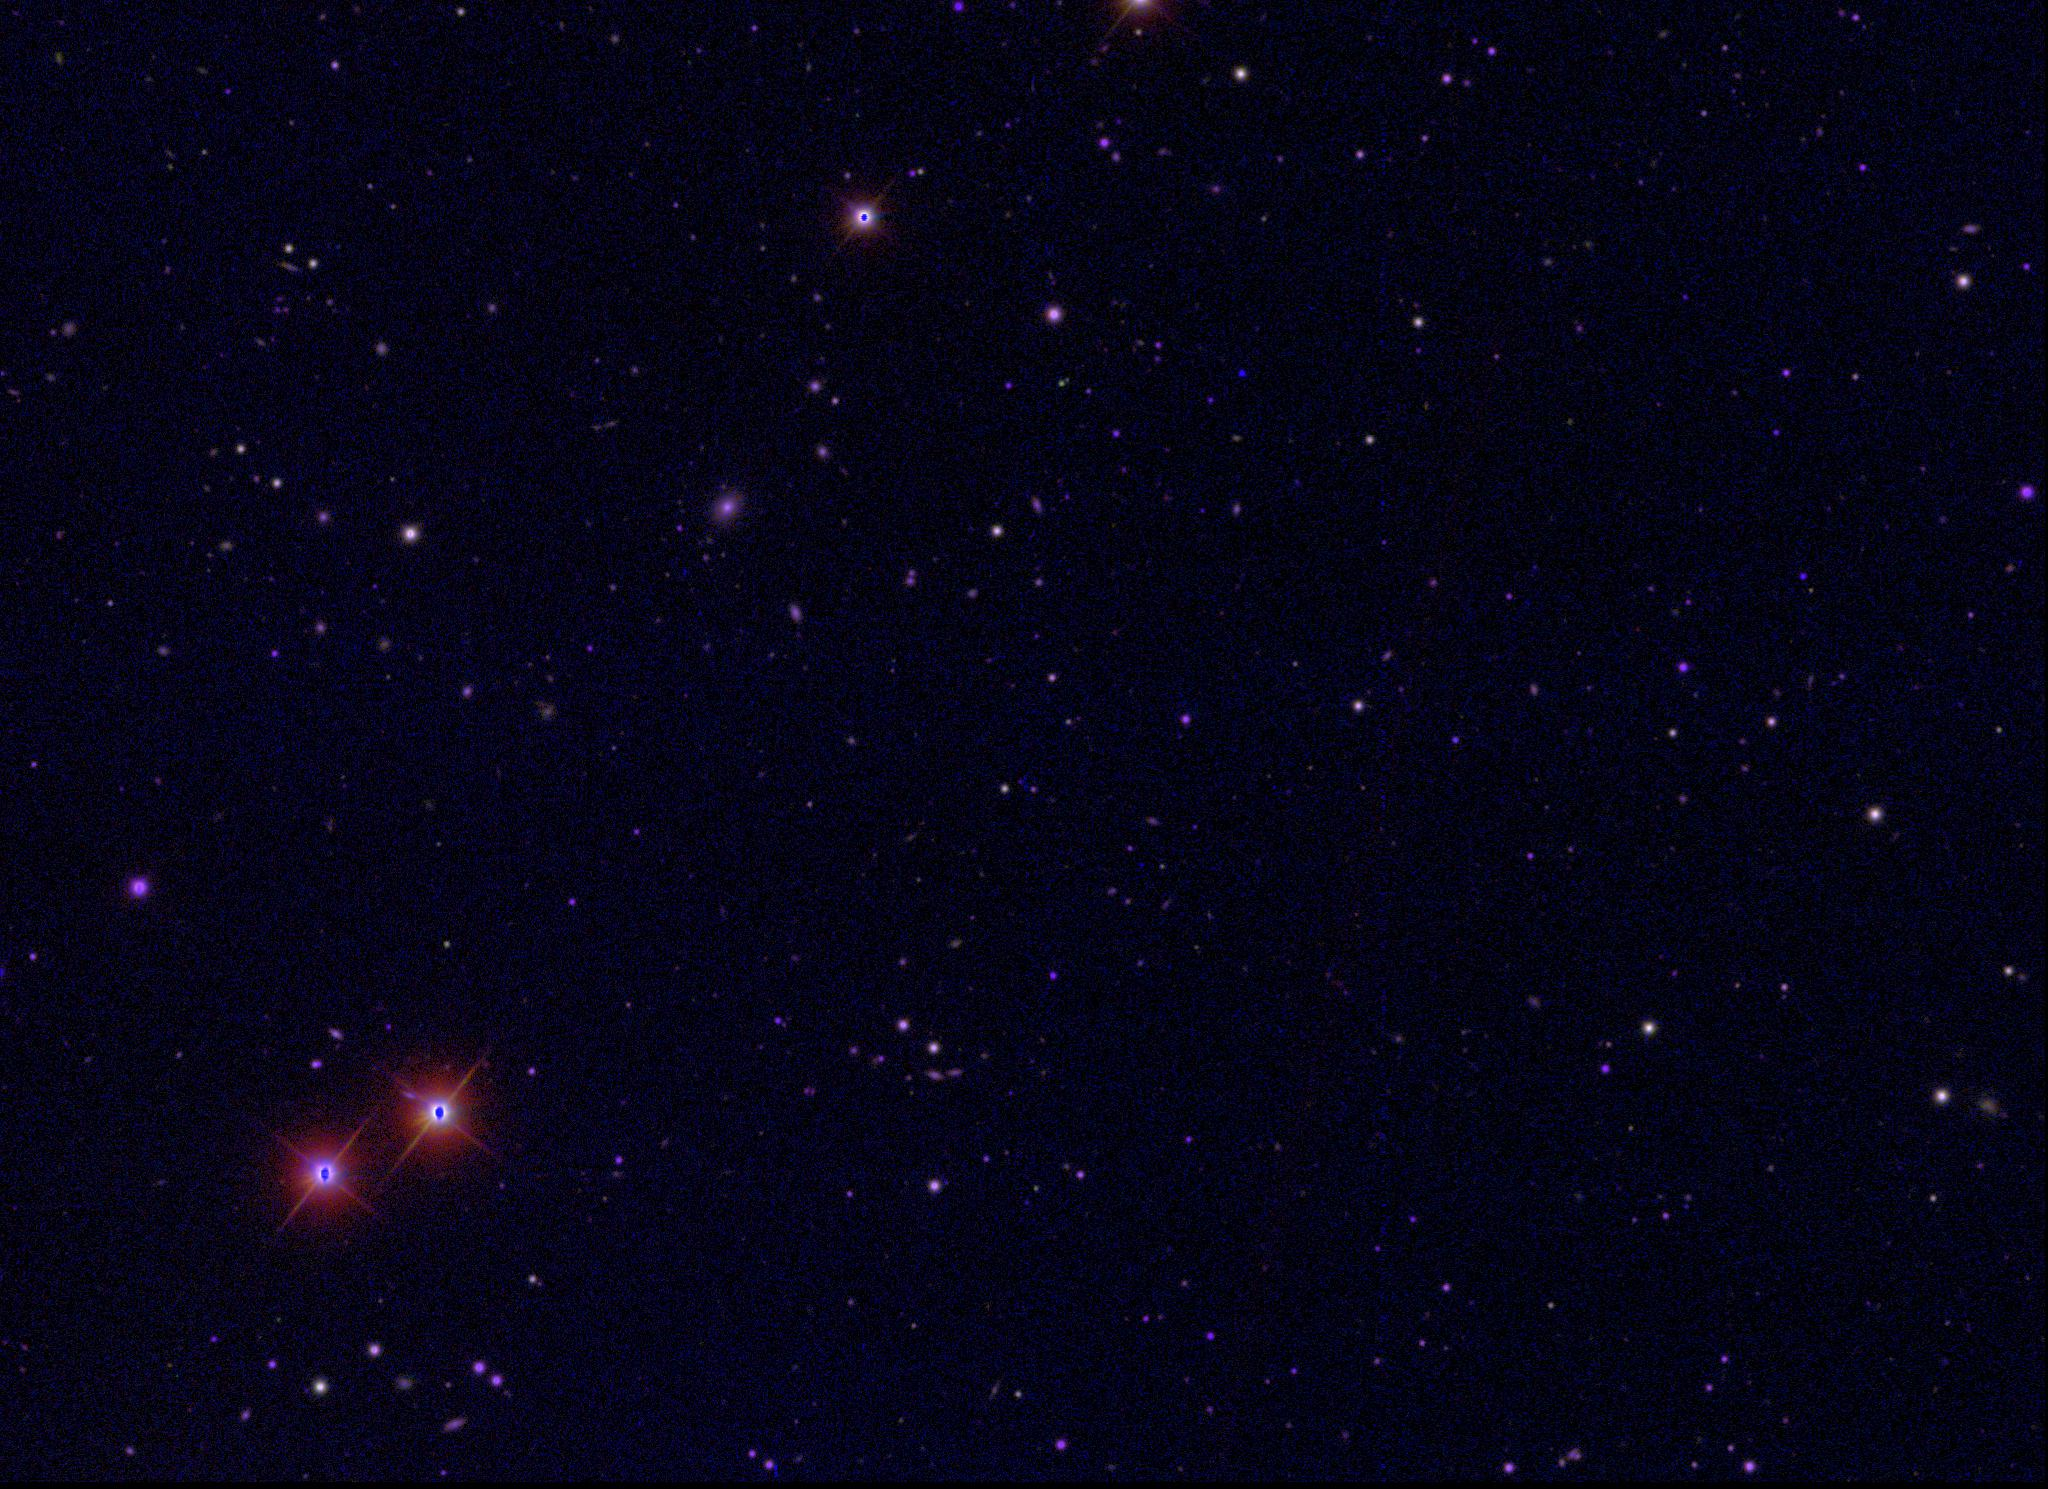L: (1235, 366, 1250, 380)
